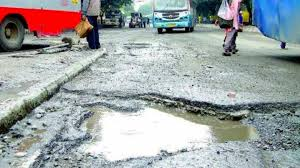potholes: (22, 63, 276, 168)
